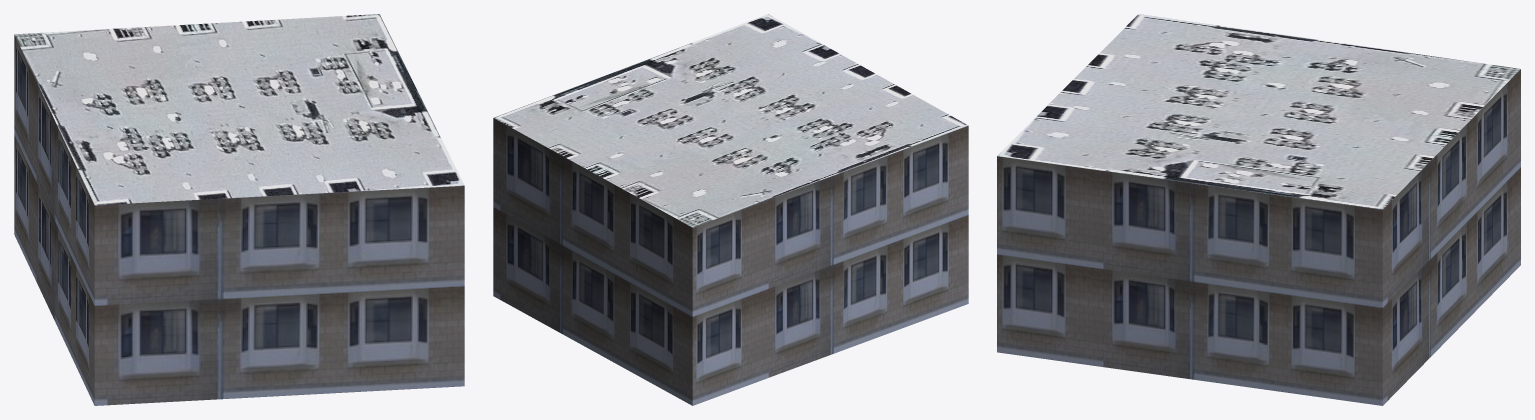
File: ResTex__404.fbx
The picture shows the model from 3 angles, left to right: view 1: azimuth 30°, elevation 25°; view 2: azimuth 150°, elevation 25°; view 3: azimuth 270°, elevation 25°; orthographic projection. The views are drawn at different scales.
Parts seen in each view (by area): view 1: CityEngineMaterial_3_m, CityEngineMaterial_m; view 2: CityEngineMaterial_3_m, CityEngineMaterial_m; view 3: CityEngineMaterial_3_m, CityEngineMaterial_m.
Part boxes in pixels (bbox=[...]): CityEngineMaterial_3_m: bbox=[14, 34, 464, 405]; CityEngineMaterial_m: bbox=[14, 14, 464, 205]; CityEngineMaterial_3_m: bbox=[493, 118, 968, 405]; CityEngineMaterial_m: bbox=[494, 14, 967, 227]; CityEngineMaterial_3_m: bbox=[997, 69, 1520, 405]; CityEngineMaterial_m: bbox=[997, 14, 1520, 209].
Bounding box in the file's own units: 12.83 × 6 × 14.51.
Materials: 2 (2 with a texture image).
